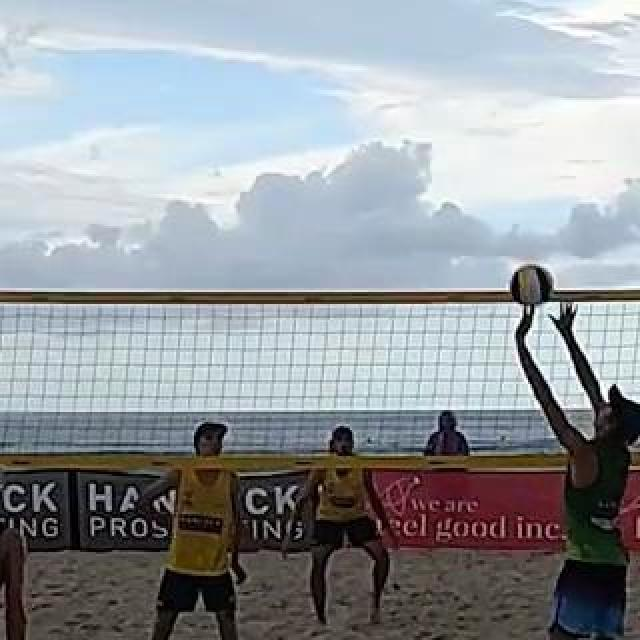volleyball: (510, 265, 552, 301)
